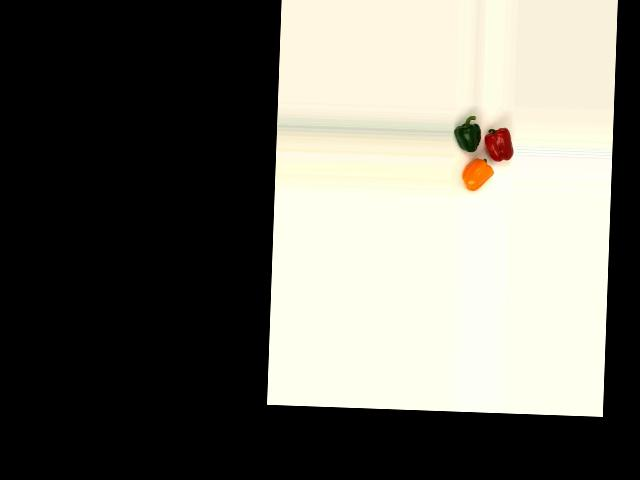bell_pepper: (453, 113, 483, 153)
